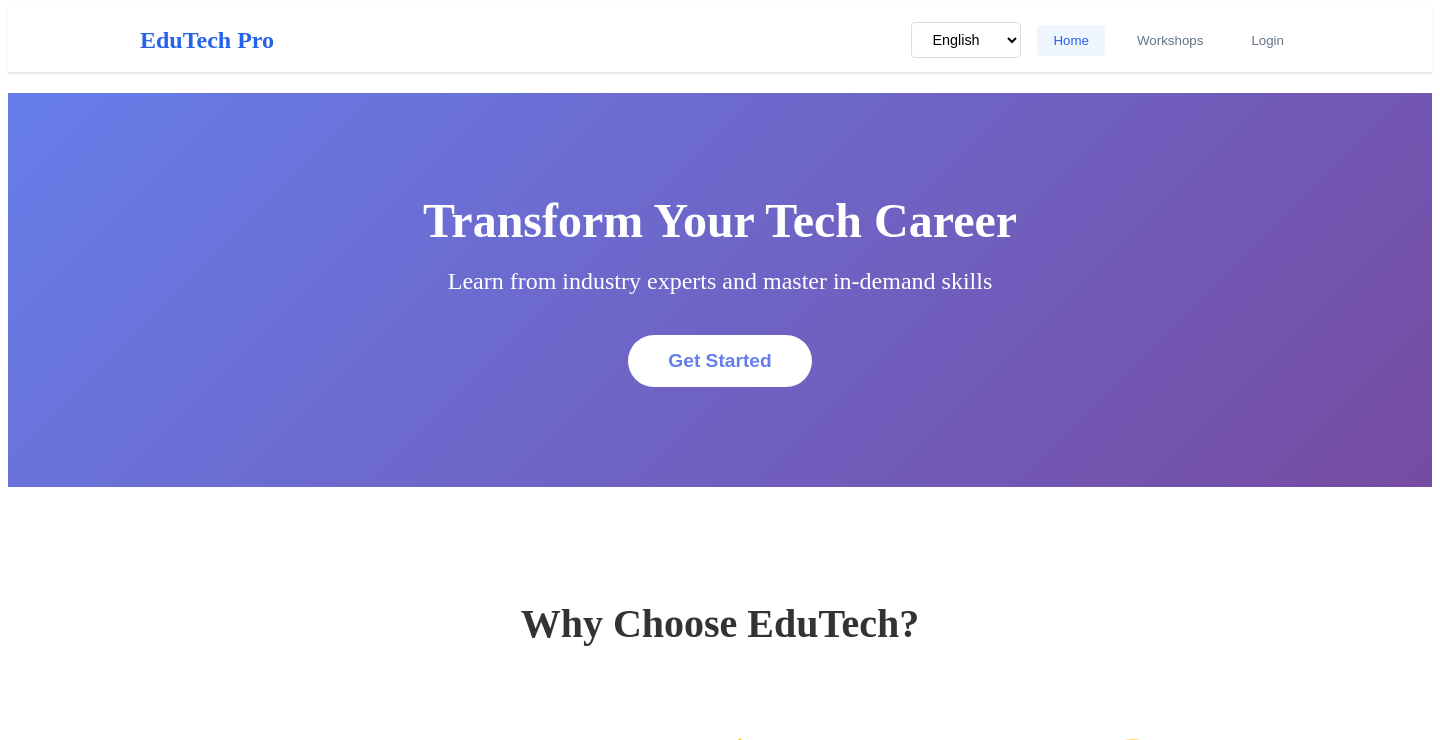
Test: Cross-Browser Compatibility › Desktop (1920x1080) › should handle login flow
The width and height of the screenshot is (1440, 740).
Click the button "Login" at [1268, 41], box [1235,25,1300,56]
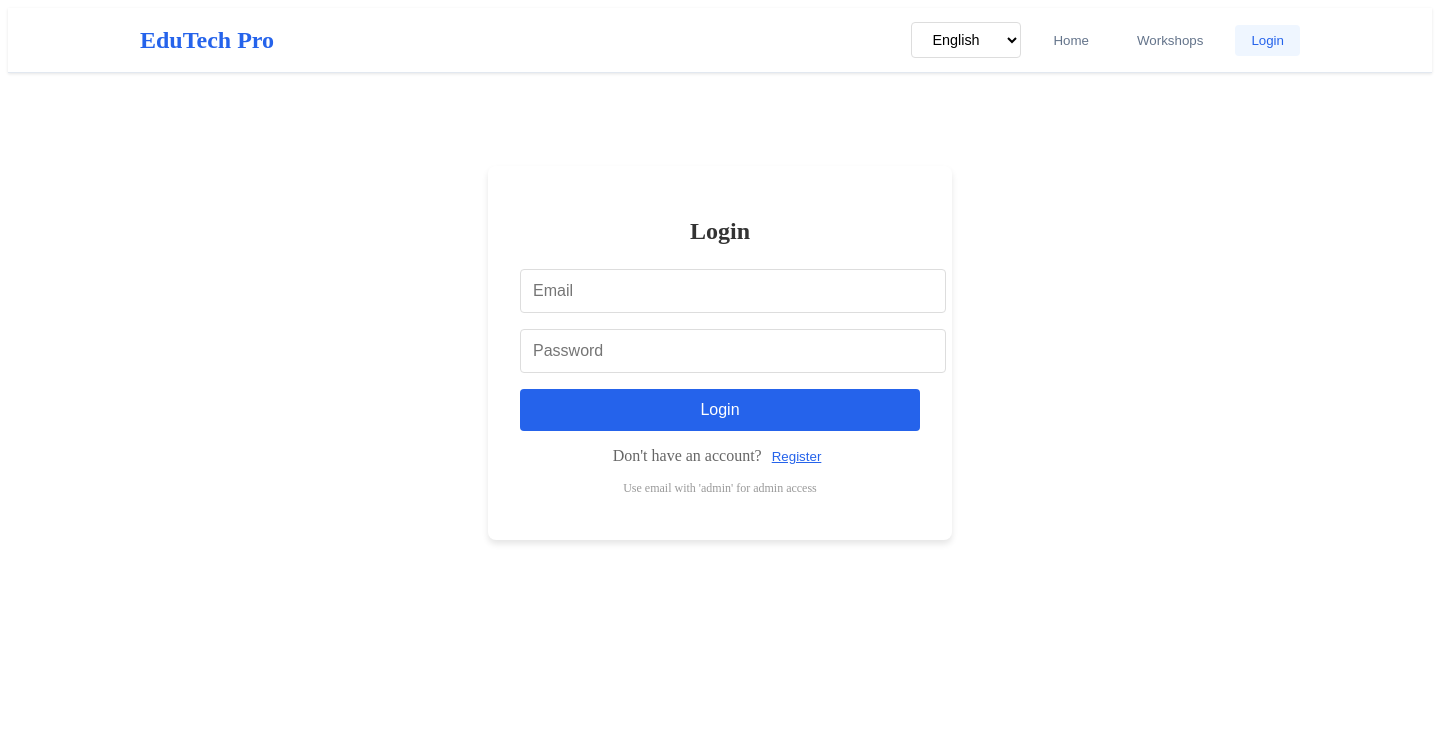
Now the element with class "auth-form" is shown, box [488,166,952,540]
